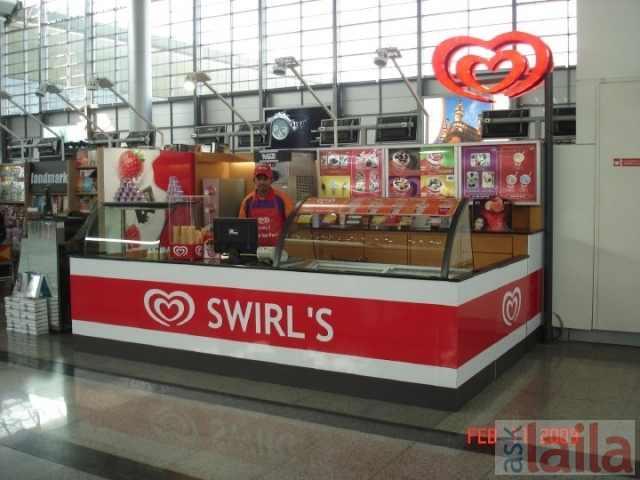Kwality_Walls: (422, 27, 559, 113), (136, 282, 197, 337)
